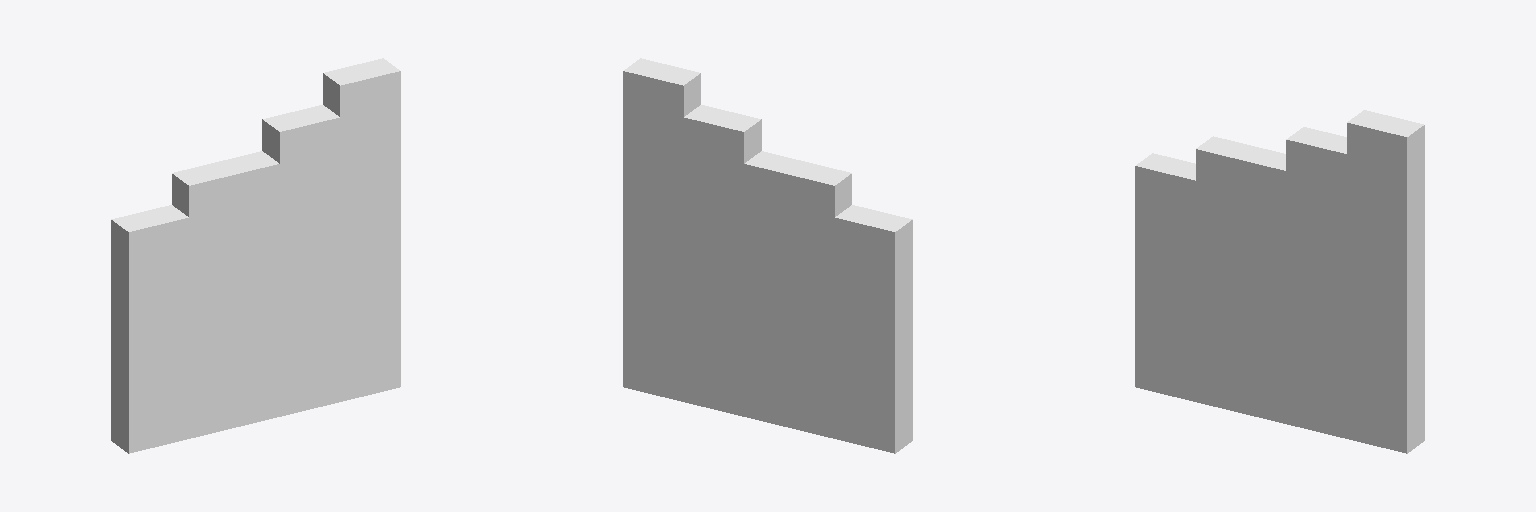
Rendered from PlayerEye50.obj.
3 views of the same model, side by side, from view 1: azimuth 30°, elevation 25°; view 2: azimuth 150°, elevation 25°; view 3: azimuth 330°, elevation 25° (orthographic).
Bounding box in the file's own units: 9 × 10 × 1.